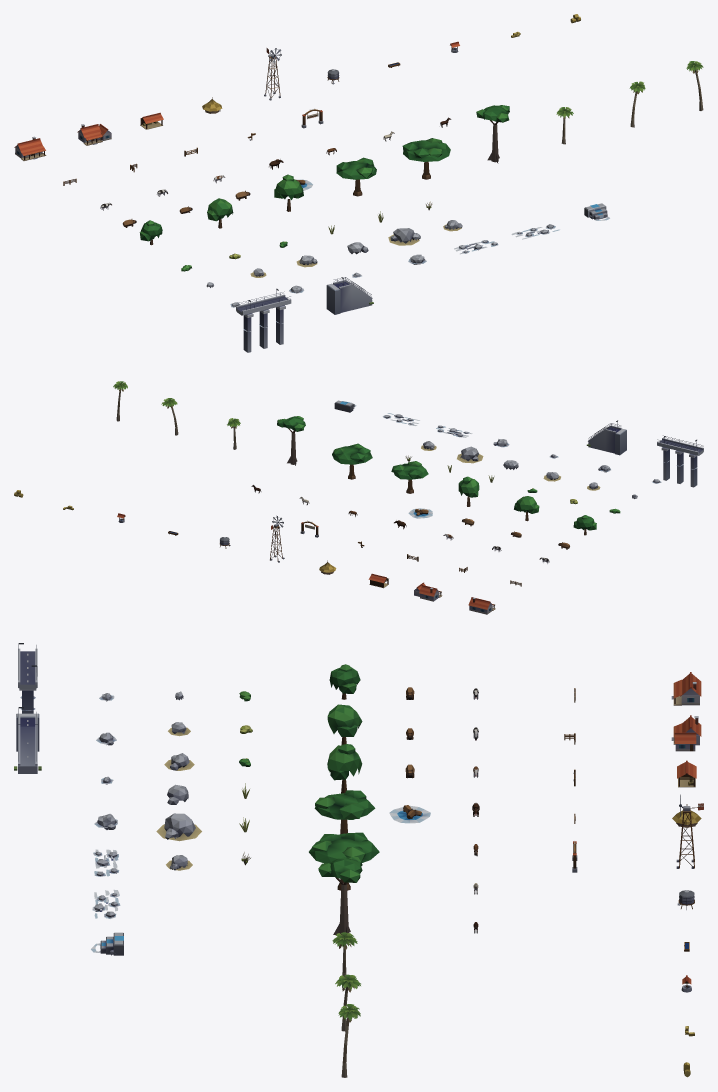
The model's file is llanos_kit.glb.
3 views of the same model, one above another, from view 1: azimuth 30°, elevation 25°; view 2: azimuth 150°, elevation 25°; view 3: azimuth 270°, elevation 25° (orthographic). The views are drawn at different scales.
Parts seen in each view (by area): view 1: puente_llano_recto, puente_llano_pila, saman_b, saman_a, ceiba, arbol_llano_c, casa_hacienda_b, casa_hacienda_a; view 2: puente_llano_recto, puente_llano_pila, saman_b, saman_a, ceiba, arbol_llano_c; view 3: saman_b, saman_a, puente_llano_pila, ceiba, puente_llano_recto, arbol_llano_c, arbol_llano_b, roca_llano_05, casa_hacienda_b, casa_hacienda_a, arbol_llano_a.
Boxes of the visible parts, box(x1,y1,x2,y2) form: puente_llano_recto: box(236, 288, 291, 352); puente_llano_pila: box(326, 277, 373, 314); saman_b: box(402, 138, 450, 179); saman_a: box(336, 157, 376, 196); ceiba: box(476, 105, 509, 163); arbol_llano_c: box(274, 174, 303, 211); casa_hacienda_b: box(77, 124, 111, 145); casa_hacienda_a: box(14, 136, 46, 160); puente_llano_recto: box(657, 435, 703, 487); puente_llano_pila: box(586, 420, 626, 455); saman_b: box(332, 443, 372, 479); saman_a: box(391, 461, 428, 493); ceiba: box(277, 416, 305, 465); arbol_llano_c: box(458, 476, 479, 506); saman_b: box(309, 832, 379, 890); saman_a: box(314, 790, 375, 834); puente_llano_pila: box(14, 707, 41, 773); ceiba: box(318, 857, 362, 935); puente_llano_recto: box(18, 643, 37, 713); arbol_llano_c: box(327, 744, 362, 793); arbol_llano_b: box(327, 704, 362, 744); roca_llano_05: box(156, 813, 201, 841); casa_hacienda_b: box(671, 715, 701, 751); casa_hacienda_a: box(671, 672, 701, 705); arbol_llano_a: box(329, 664, 360, 699).
Size of the model in its own units: 286 by 35.06 by 209.
